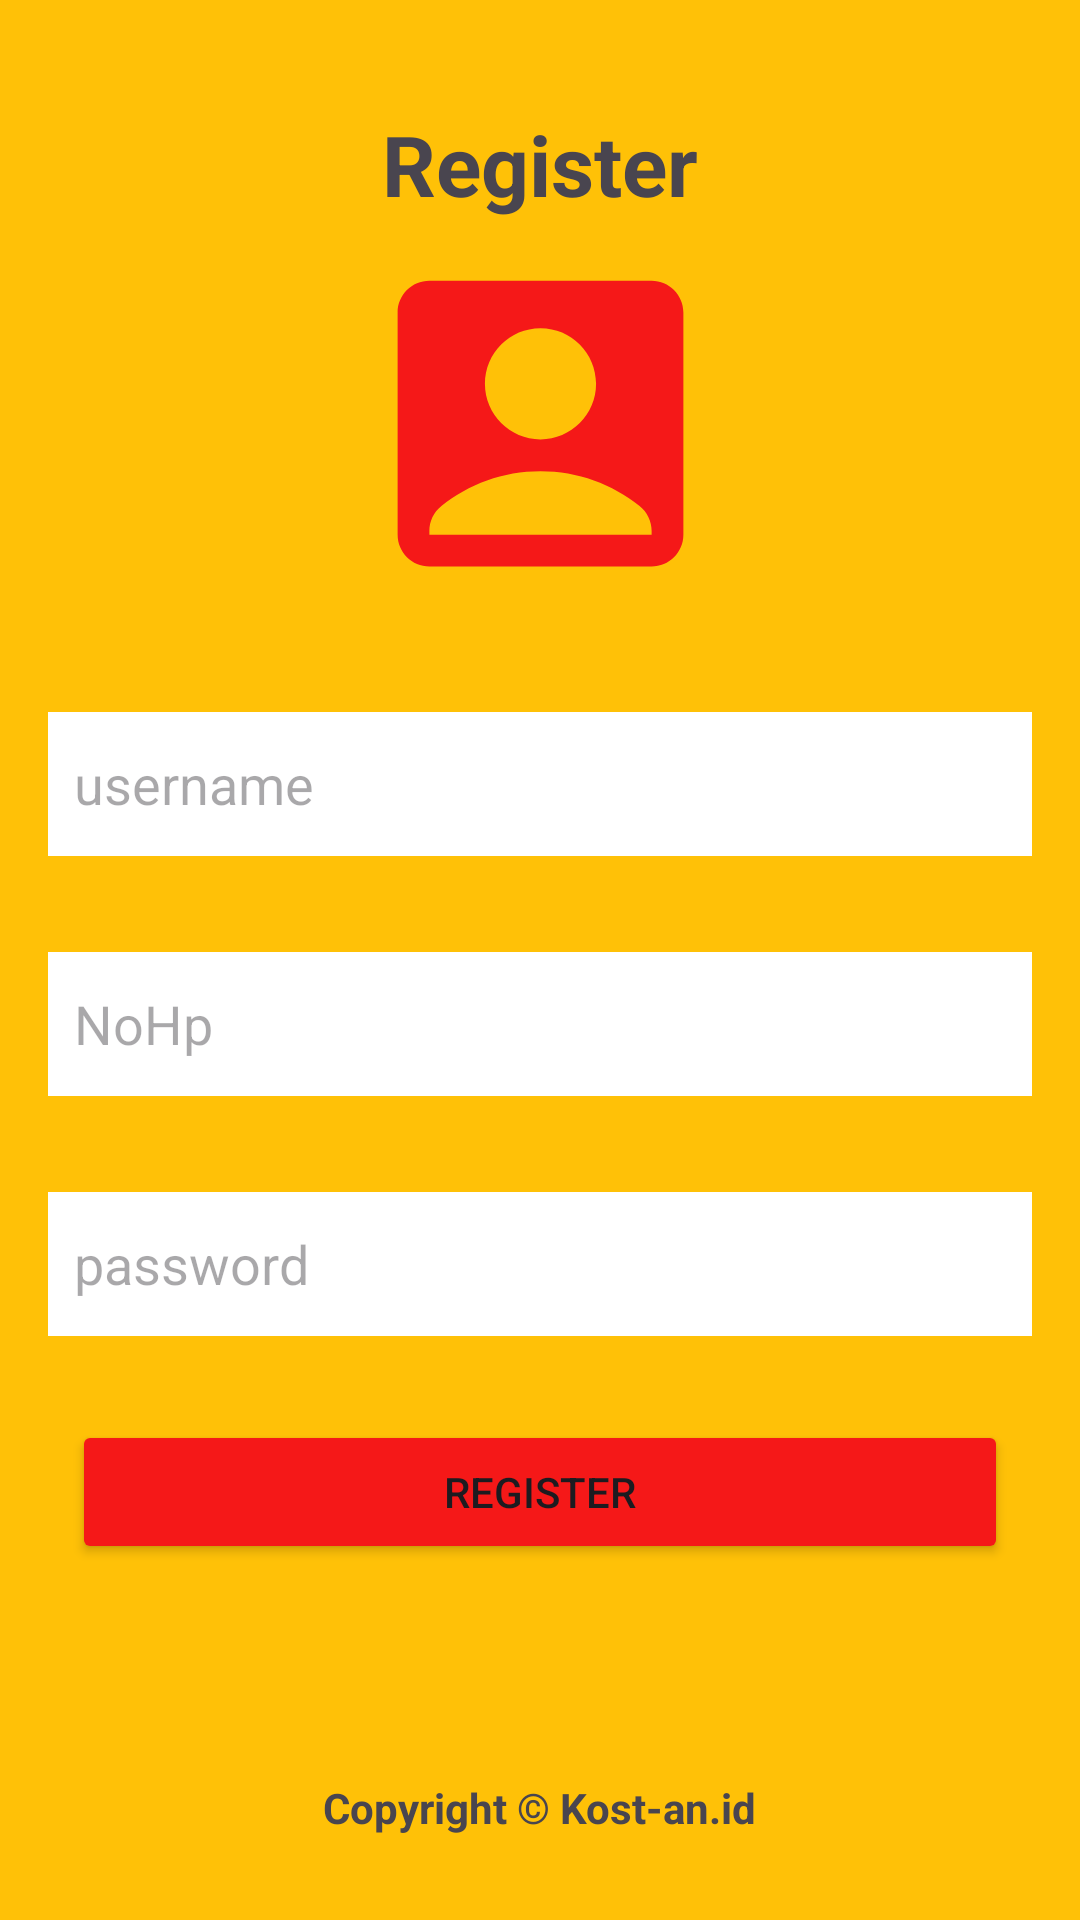

Icons on this 1080*1920 Android screen, each with the point to tap as point (x, y):
account box: point (540, 423)
